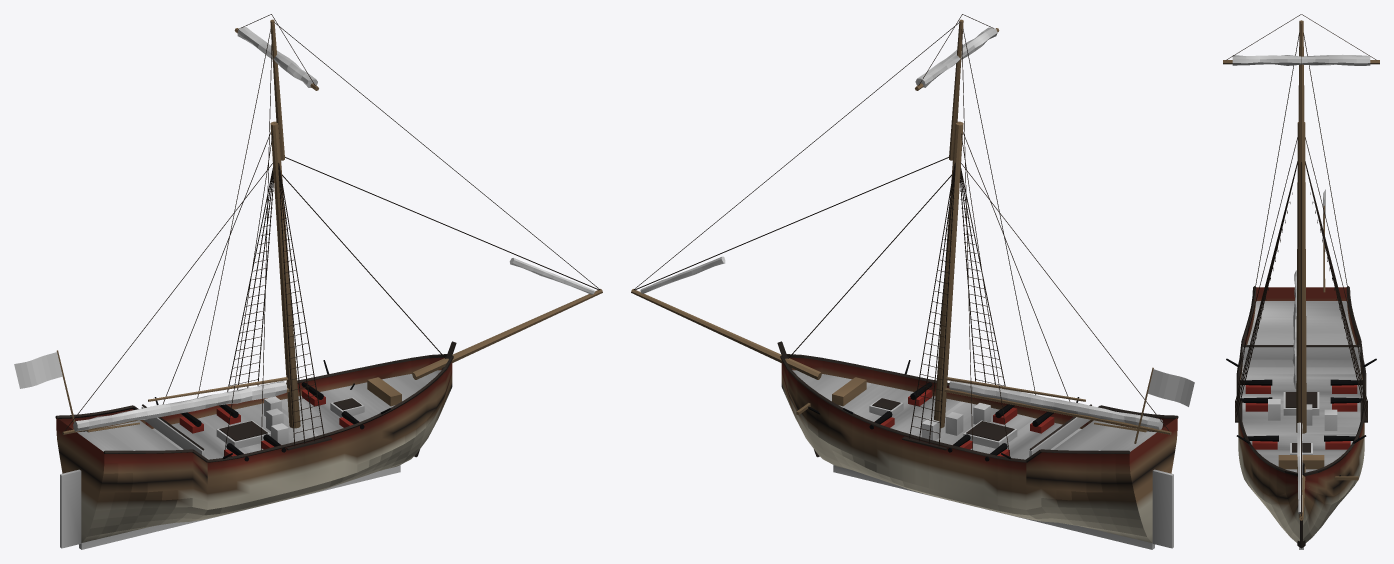
The model's file is sloop.glb.
The picture shows the model from 3 angles, left to right: view 1: azimuth 30°, elevation 25°; view 2: azimuth 150°, elevation 25°; view 3: azimuth 270°, elevation 25°; orthographic projection. The views are drawn at different scales.
Parts seen in each view (by area): view 1: sloop_Hull, sloop_Deck, sloop_Rope, sloop_Spar, sloop_Sail, sloop_Tar, sloop_Flag, sloop_Iron, sloop_Red; view 2: sloop_Hull, sloop_Spar, sloop_Deck, sloop_Rope, sloop_Sail, sloop_Tar, sloop_Flag, sloop_Iron, sloop_Red; view 3: sloop_Deck, sloop_Hull, sloop_Spar, sloop_Rope, sloop_Tar, sloop_Sail, sloop_Red, sloop_Iron.
Part boxes in pixels (box(x1,y1,x2,y2)): sloop_Hull: box(56, 357, 452, 549); sloop_Deck: box(77, 370, 441, 459); sloop_Rope: box(64, 14, 599, 456); sloop_Spar: box(56, 19, 602, 434); sloop_Sail: box(73, 27, 594, 431); sloop_Tar: box(55, 341, 456, 462); sloop_Flag: box(14, 352, 62, 388); sloop_Iron: box(154, 360, 390, 461); sloop_Red: box(179, 389, 353, 456); sloop_Hull: box(781, 357, 1177, 549); sloop_Spar: box(631, 19, 1171, 443); sloop_Deck: box(792, 370, 1156, 459); sloop_Rope: box(634, 14, 1169, 456); sloop_Sail: box(640, 27, 1162, 429); sloop_Tar: box(777, 341, 1178, 462); sloop_Flag: box(1148, 369, 1194, 406); sloop_Iron: box(808, 360, 1079, 461); sloop_Red: box(880, 389, 1054, 456); sloop_Deck: box(1240, 301, 1362, 472); sloop_Hull: box(1238, 287, 1364, 549); sloop_Spar: box(1223, 20, 1379, 520); sloop_Rope: box(1226, 14, 1376, 518); sloop_Tar: box(1235, 286, 1367, 548); sloop_Sail: box(1232, 54, 1370, 514); sloop_Red: box(1245, 385, 1357, 449); sloop_Iron: box(1226, 358, 1376, 476).
Bounding box in the file's own units: 25.59 × 20.75 × 6.21.
